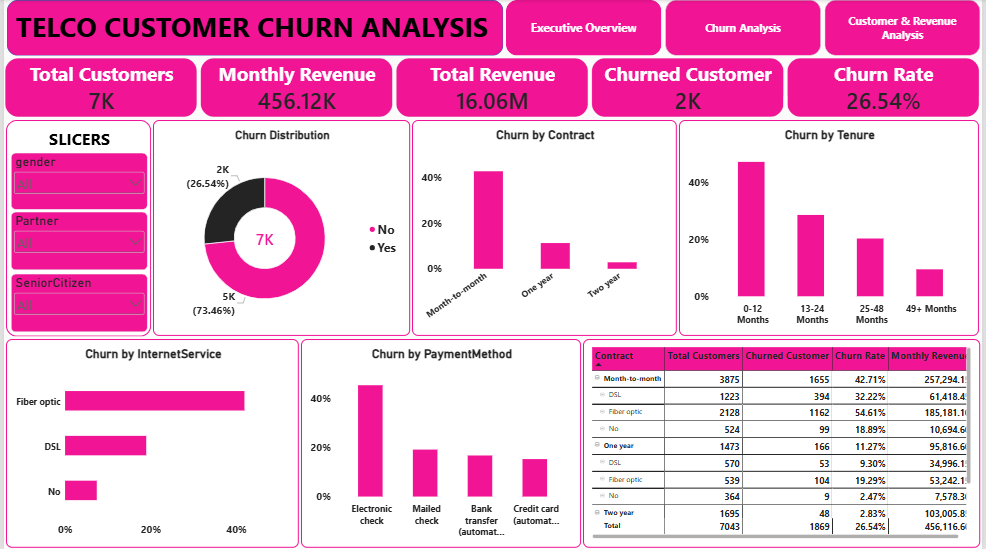

This screenshot's page, from the dashboard's own definition file:
{"tool":"powerbi","page":{"name":"Executive Overview","canvas":[1920,1080],"ordinal":0},"visuals":[{"type":"shape","box":[6.2,2.1,974.5,109.4],"z":0},{"type":"textbox","box":[22.7,16.5,937.3,109.4],"z":1000},{"type":"pageNavigator","box":[984.8,2.1,931.1,109.4],"z":2000},{"type":"cardVisual","fields":{"Data":["Telco-Customer-Churn (1).Total Customers","Telco-Customer-Churn (1).Monthly Revenue","Telco-Customer-Churn (1).Total Revenue","Telco-Customer-Churn (1).Churned Customer","Telco-Customer-Churn (1).Churn Rate"]},"box":[2.2,116.8,1915.3,116.8],"z":3000},{"type":"donutChart","title":"Churn Distribution","fields":{"Y":["Telco-Customer-Churn (1).Total Customers"],"Category":["Telco-Customer-Churn (1).Churn"]},"box":[292.6,237.6,504.7,424.1],"z":4000},{"type":"clusteredColumnChart","title":"Churn by Contract","fields":{"Category":["Telco-Customer-Churn (1).Contract"],"Y":["Telco-Customer-Churn (1).Churn Rate"]},"box":[801.2,237.6,520.4,424.1],"z":5000},{"type":"clusteredColumnChart","title":"Churn by Tenure","fields":{"Y":["Telco-Customer-Churn (1).Churn Rate"],"Category":["Telco-Customer-Churn (1).Tenure Group"]},"box":[1325.5,237.6,589.1,424.1],"z":6000},{"type":"clusteredBarChart","title":"Churn by InternetService","fields":{"Y":["Telco-Customer-Churn (1).Churn Rate"],"Category":["Telco-Customer-Churn (1).InternetService"]},"box":[3.9,667.6,575.3,410.4],"z":7000},{"type":"lineStackedColumnComboChart","title":"Churn by PaymentMethod","fields":{"Category":["Telco-Customer-Churn (1).PaymentMethod"],"Y":["Telco-Customer-Churn (1).Churn Rate"]},"box":[583.2,667.6,549.8,410.4],"z":8000},{"type":"pivotTable","fields":{"Rows":["Telco-Customer-Churn (1).Contract","Telco-Customer-Churn (1).InternetService","Telco-Customer-Churn (1).PaymentMethod"],"Values":["Telco-Customer-Churn (1).Total Customers","Telco-Customer-Churn (1).Churned Customer","Telco-Customer-Churn (1).Churn Rate","Telco-Customer-Churn (1).Monthly Revenue"]},"box":[1136.9,667.6,779.6,410.4],"z":9000},{"type":"shape","box":[4.1,237.4,284.9,425.3],"z":10000},{"type":"slicer","fields":{"Values":["Telco-Customer-Churn (1).gender"]},"box":[14.5,301.4,268.4,111.5],"z":10001},{"type":"slicer","fields":{"Values":["Telco-Customer-Churn (1).SeniorCitizen"]},"box":[14.5,540.9,268.4,113.5],"z":10002},{"type":"slicer","fields":{"Values":["Telco-Customer-Churn (1).Partner"]},"box":[14.5,419.1,268.4,113.5],"z":10003},{"type":"textbox","box":[88.8,251.9,138.3,57.8],"z":10004}]}

Visuals, with their boxes in screenshot pixels (x1, y1, x2, y2), scaled from the page's 1920x1080 canvas onto the 986x549 screenshot:
shape: Rect(3, 1, 504, 57)
textbox: Rect(12, 8, 493, 64)
pageNavigator: Rect(506, 1, 984, 57)
cardVisual - Telco-Customer-Churn (1).Total Customers x Telco-Customer-Churn (1).Monthly Revenue: Rect(1, 59, 985, 119)
"Churn Distribution" donutChart: Rect(150, 121, 409, 336)
"Churn by Contract" clusteredColumnChart: Rect(411, 121, 679, 336)
"Churn by Tenure" clusteredColumnChart: Rect(681, 121, 983, 336)
"Churn by InternetService" clusteredBarChart: Rect(2, 339, 297, 548)
"Churn by PaymentMethod" lineStackedColumnComboChart: Rect(299, 339, 582, 548)
pivotTable - Telco-Customer-Churn (1).Contract x Telco-Customer-Churn (1).InternetService: Rect(584, 339, 984, 548)
shape: Rect(2, 121, 148, 337)
slicer - Telco-Customer-Churn (1).gender: Rect(7, 153, 145, 210)
slicer - Telco-Customer-Churn (1).SeniorCitizen: Rect(7, 275, 145, 333)
slicer - Telco-Customer-Churn (1).Partner: Rect(7, 213, 145, 271)
textbox: Rect(46, 128, 117, 157)
